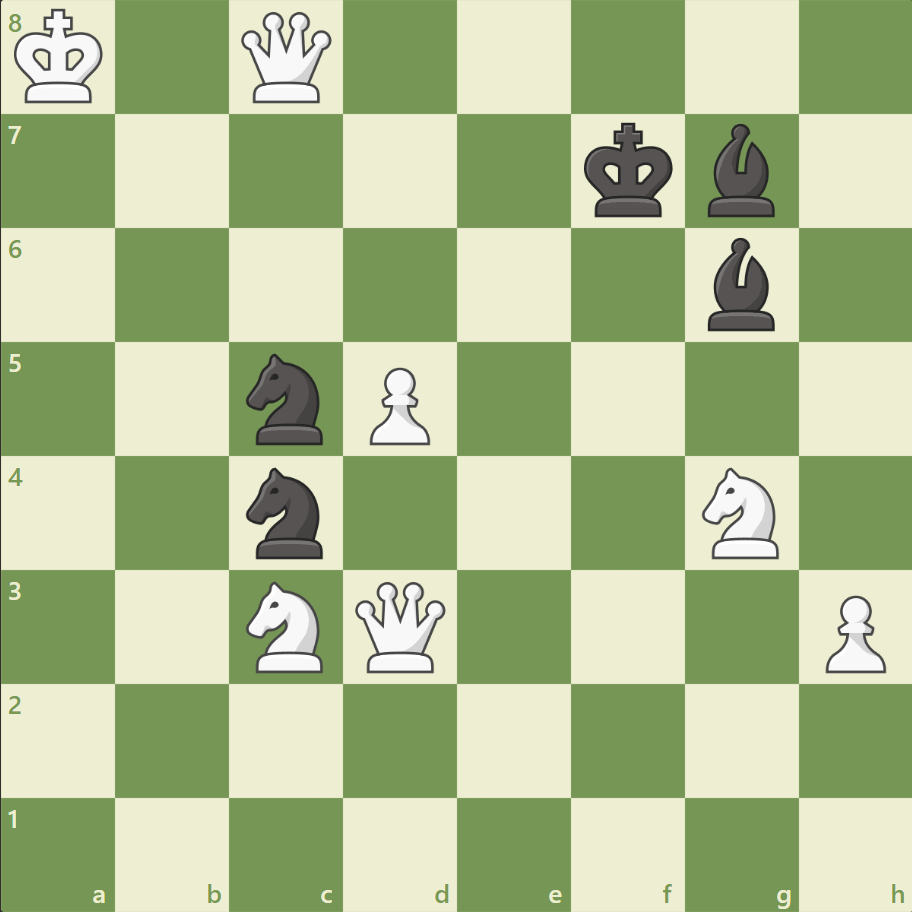K: (11, 4, 111, 112)
N: (692, 461, 789, 564), (238, 575, 335, 677)
P: (361, 359, 435, 450), (815, 586, 889, 677)
Q: (351, 576, 450, 676), (237, 9, 336, 108)
b: (698, 233, 782, 336), (698, 120, 782, 222)
k: (579, 117, 679, 225)
n: (238, 461, 335, 564), (238, 348, 335, 450)
